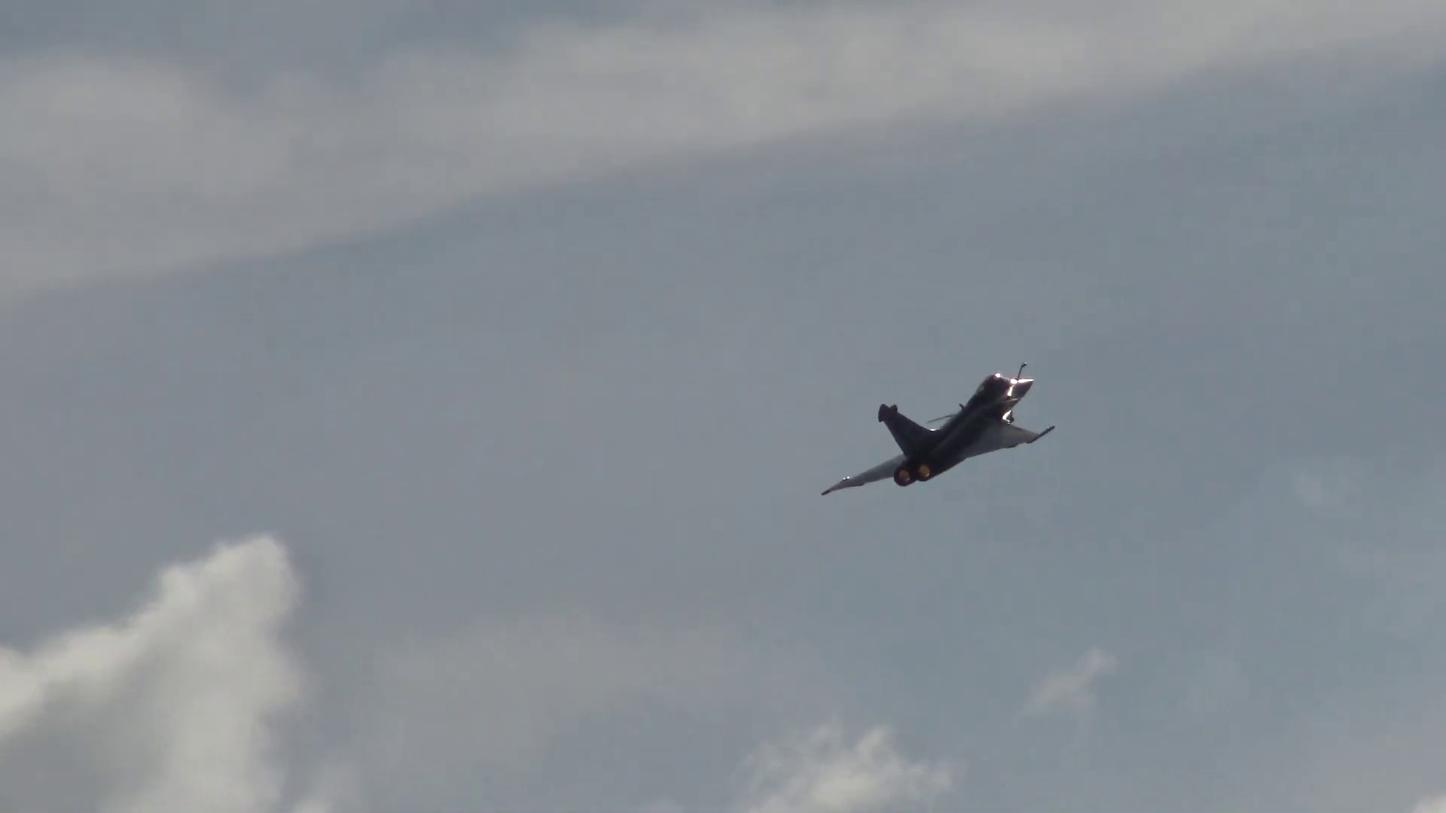Rafale: (818, 365, 1051, 495)
